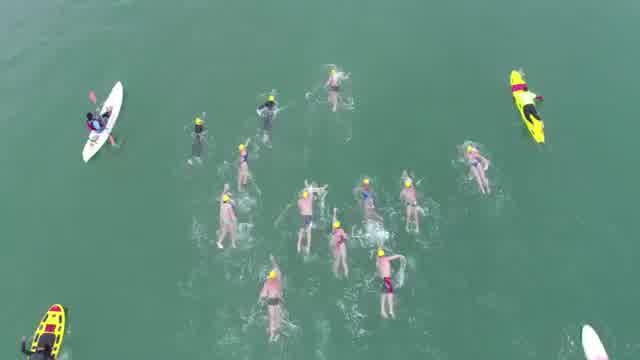human: (375, 241, 407, 324), (262, 256, 290, 343), (404, 172, 429, 238), (322, 63, 352, 113), (464, 142, 492, 191), (295, 184, 315, 252), (330, 206, 348, 280), (222, 188, 238, 249), (238, 137, 244, 189)
